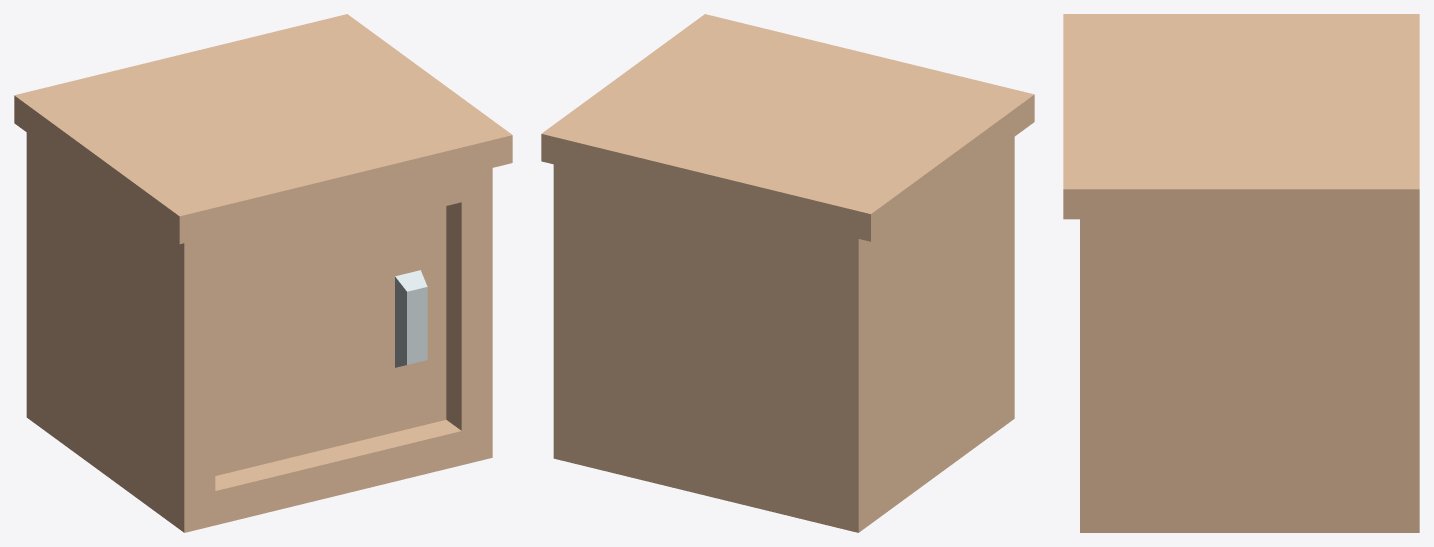
File: cabinetBed-col.glb
3 renders of one model, left to right at view 1: azimuth 30°, elevation 25°; view 2: azimuth 150°, elevation 25°; view 3: azimuth 270°, elevation 25°, orthographic. The views are drawn at different scales.
Visible parts, largest first — view 1: cabinetBed-col; view 2: cabinetBed-col; view 3: cabinetBed-col.
Part boxes in pixels (x1,y1,x2,y2): cabinetBed-col: (14, 14, 512, 532); cabinetBed-col: (541, 14, 1034, 532); cabinetBed-col: (1063, 14, 1419, 532).
Size of the model in its own units: 0.25 by 0.2332 by 0.215.
